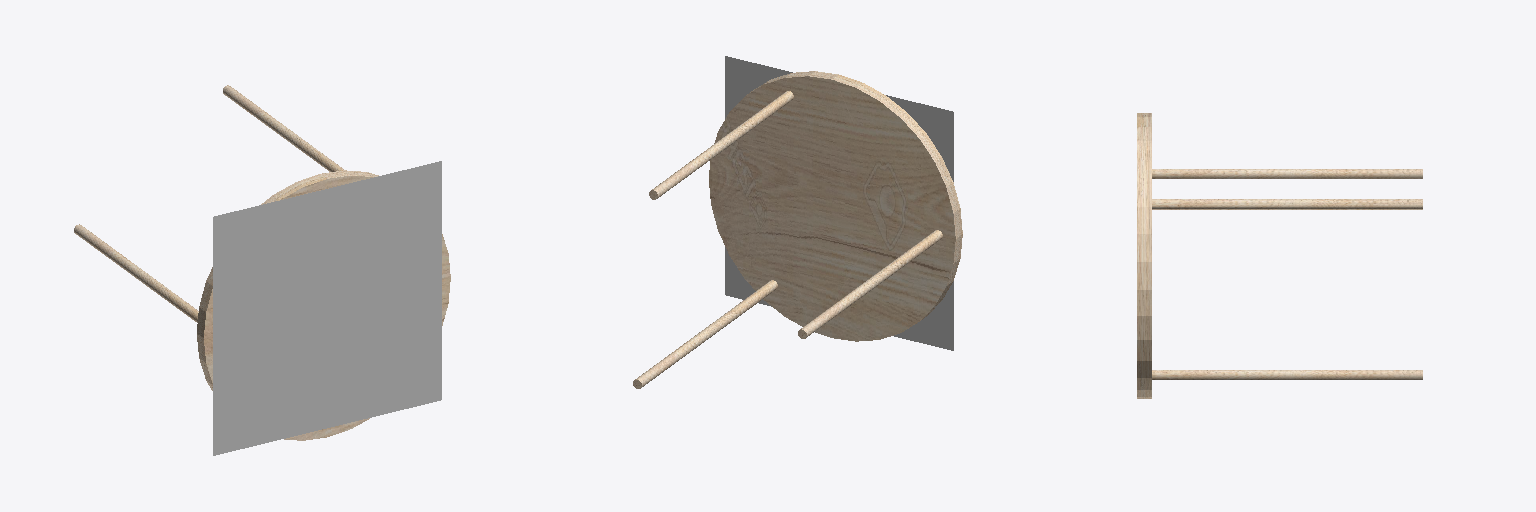
The picture shows the model from 3 angles: view 1: azimuth 30°, elevation 25°; view 2: azimuth 150°, elevation 25°; view 3: azimuth 270°, elevation 25°; orthographic projection.
Visible parts, largest first — view 1: Table_Cylinder; view 2: Table_Cylinder; view 3: Table_Cylinder.
Boxes of the visible parts, box(x1,y1,x2,y2) form: Table_Cylinder: box(74, 85, 450, 455); Table_Cylinder: box(633, 56, 962, 388); Table_Cylinder: box(1137, 113, 1422, 398).
Bounding box in the file's own units: 1200 × 1200 × 1206.
Materials: 2 (1 with a texture image).